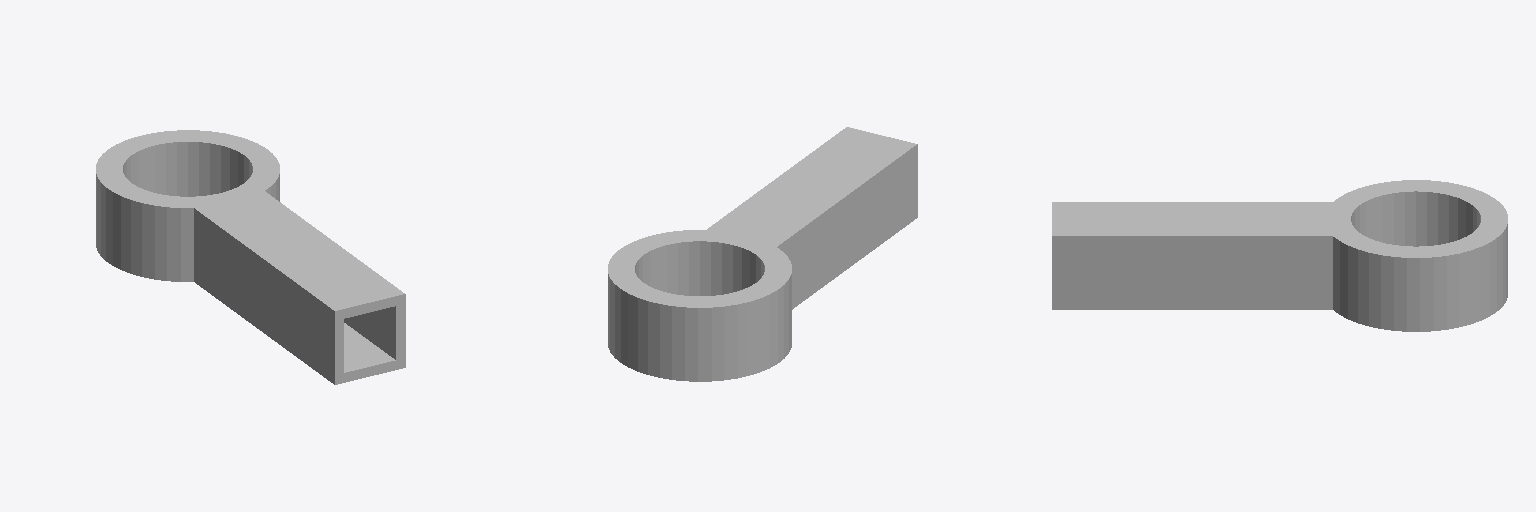
The model's file is arm1.obj.
3 renders of one model, left to right at view 1: azimuth 30°, elevation 25°; view 2: azimuth 150°, elevation 25°; view 3: azimuth 270°, elevation 25°, orthographic.
Parts seen in each view (by area): view 1: Bryła4; view 2: Bryła4; view 3: Bryła4.
Boxes of the visible parts, x1,y1,x2,y2 form: Bryła4: [96, 130, 405, 384]; Bryła4: [608, 127, 917, 381]; Bryła4: [1052, 180, 1507, 331].
Bounding box in the file's own units: 33.96 × 15 × 83.96.